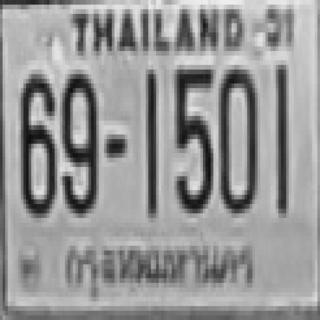N00: (216, 65, 255, 209)
N01: (273, 63, 286, 211), (143, 70, 156, 213)
N05: (173, 65, 212, 209)
N06: (18, 70, 55, 213)
N09: (60, 70, 96, 213)
P04: (59, 235, 261, 290)
